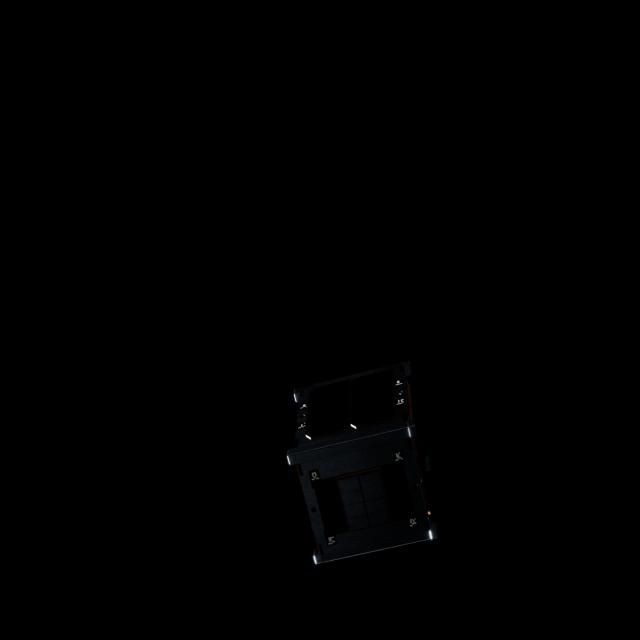medium_debris: (285, 356, 447, 574)
